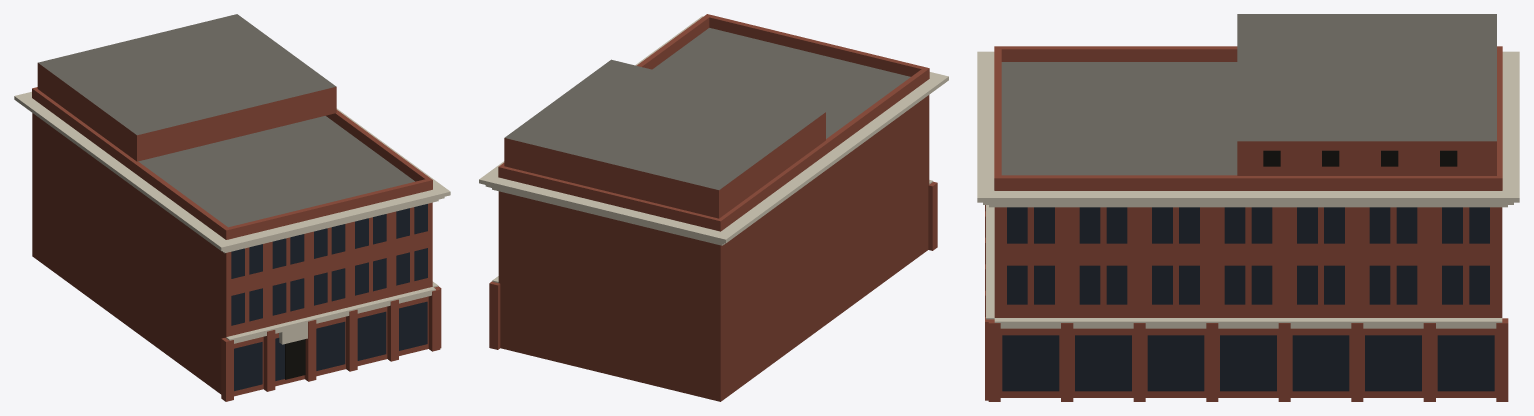
Rendered from taborian-hall.glb.
The picture shows the model from 3 angles, left to right: view 1: azimuth 30°, elevation 25°; view 2: azimuth 150°, elevation 25°; view 3: azimuth 270°, elevation 25°; orthographic projection. The views are drawn at different scales.
Parts seen in each view (by area): view 1: taborian_roof, taborian_brick, taborian_brick2, taborian_glass, taborian_stone, taborian_shadow; view 2: taborian_brick2, taborian_roof, taborian_brick, taborian_stone; view 3: taborian_brick, taborian_roof, taborian_glass, taborian_stone, taborian_shadow.
Part boxes in pixels (left/top/right/bottom): taborian_roof: left=38, top=14, right=414, bottom=227; taborian_brick: left=32, top=63, right=441, bottom=401; taborian_brick2: left=32, top=113, right=226, bottom=394; taborian_glass: left=231, top=204, right=427, bottom=391; taborian_stone: left=14, top=91, right=450, bottom=344; taborian_shadow: left=285, top=339, right=305, bottom=379; taborian_brick2: left=498, top=95, right=929, bottom=401; taborian_roof: left=504, top=28, right=910, bottom=189; taborian_brick: left=489, top=14, right=937, bottom=349; taborian_stone: left=479, top=16, right=948, bottom=282; taborian_brick: left=985, top=46, right=1508, bottom=401; taborian_roof: left=1001, top=14, right=1496, bottom=175; taborian_glass: left=1002, top=207, right=1494, bottom=391; taborian_stone: left=977, top=51, right=1519, bottom=328; taborian_shadow: left=1263, top=150, right=1457, bottom=166.
Bounding box in the file's own units: 20 × 16.2 × 31.3.
